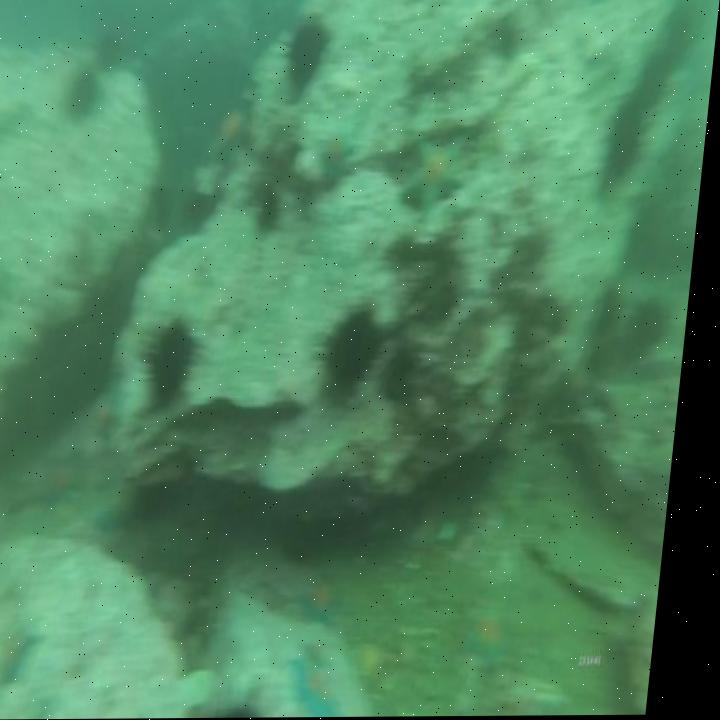echinus: (320, 296, 397, 403), (149, 317, 210, 411), (270, 14, 332, 94), (604, 92, 649, 179), (631, 291, 674, 353), (662, 1, 700, 66), (638, 50, 674, 114), (66, 72, 105, 124), (259, 174, 289, 231)
starfish: (405, 132, 475, 223), (292, 640, 365, 718), (475, 594, 540, 674), (0, 614, 62, 695), (313, 120, 366, 192), (305, 575, 361, 636), (43, 456, 94, 517), (213, 107, 255, 167), (98, 388, 135, 449), (101, 495, 144, 541)
